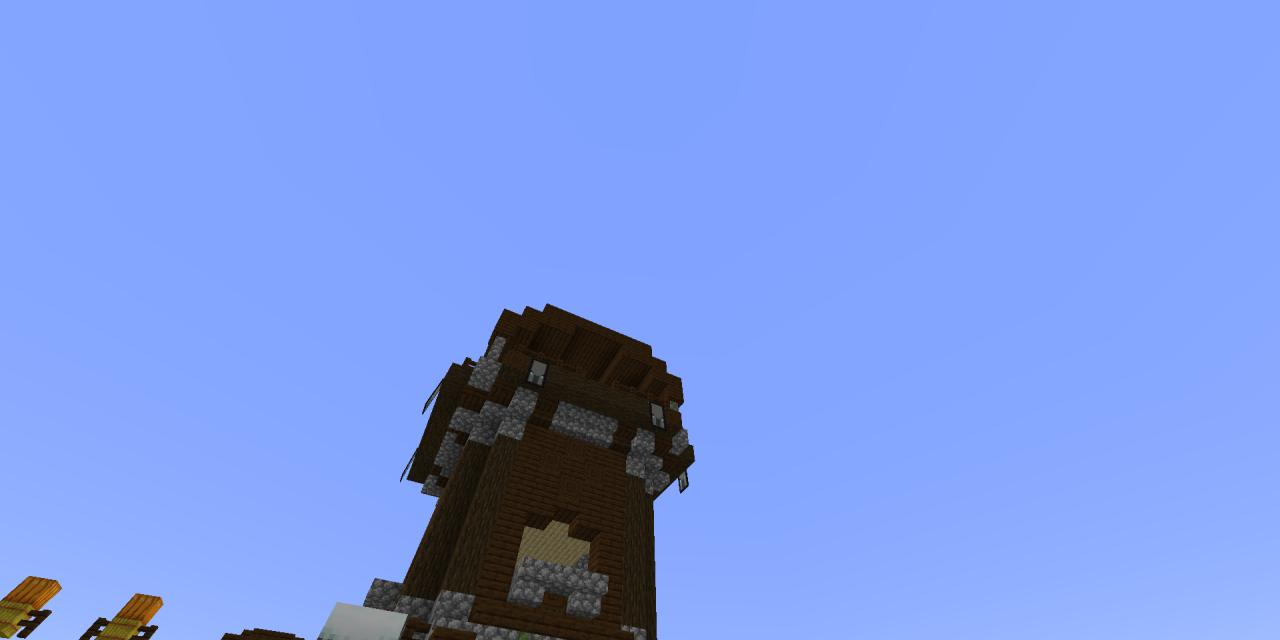pillager outpost: (337, 291, 705, 640)
